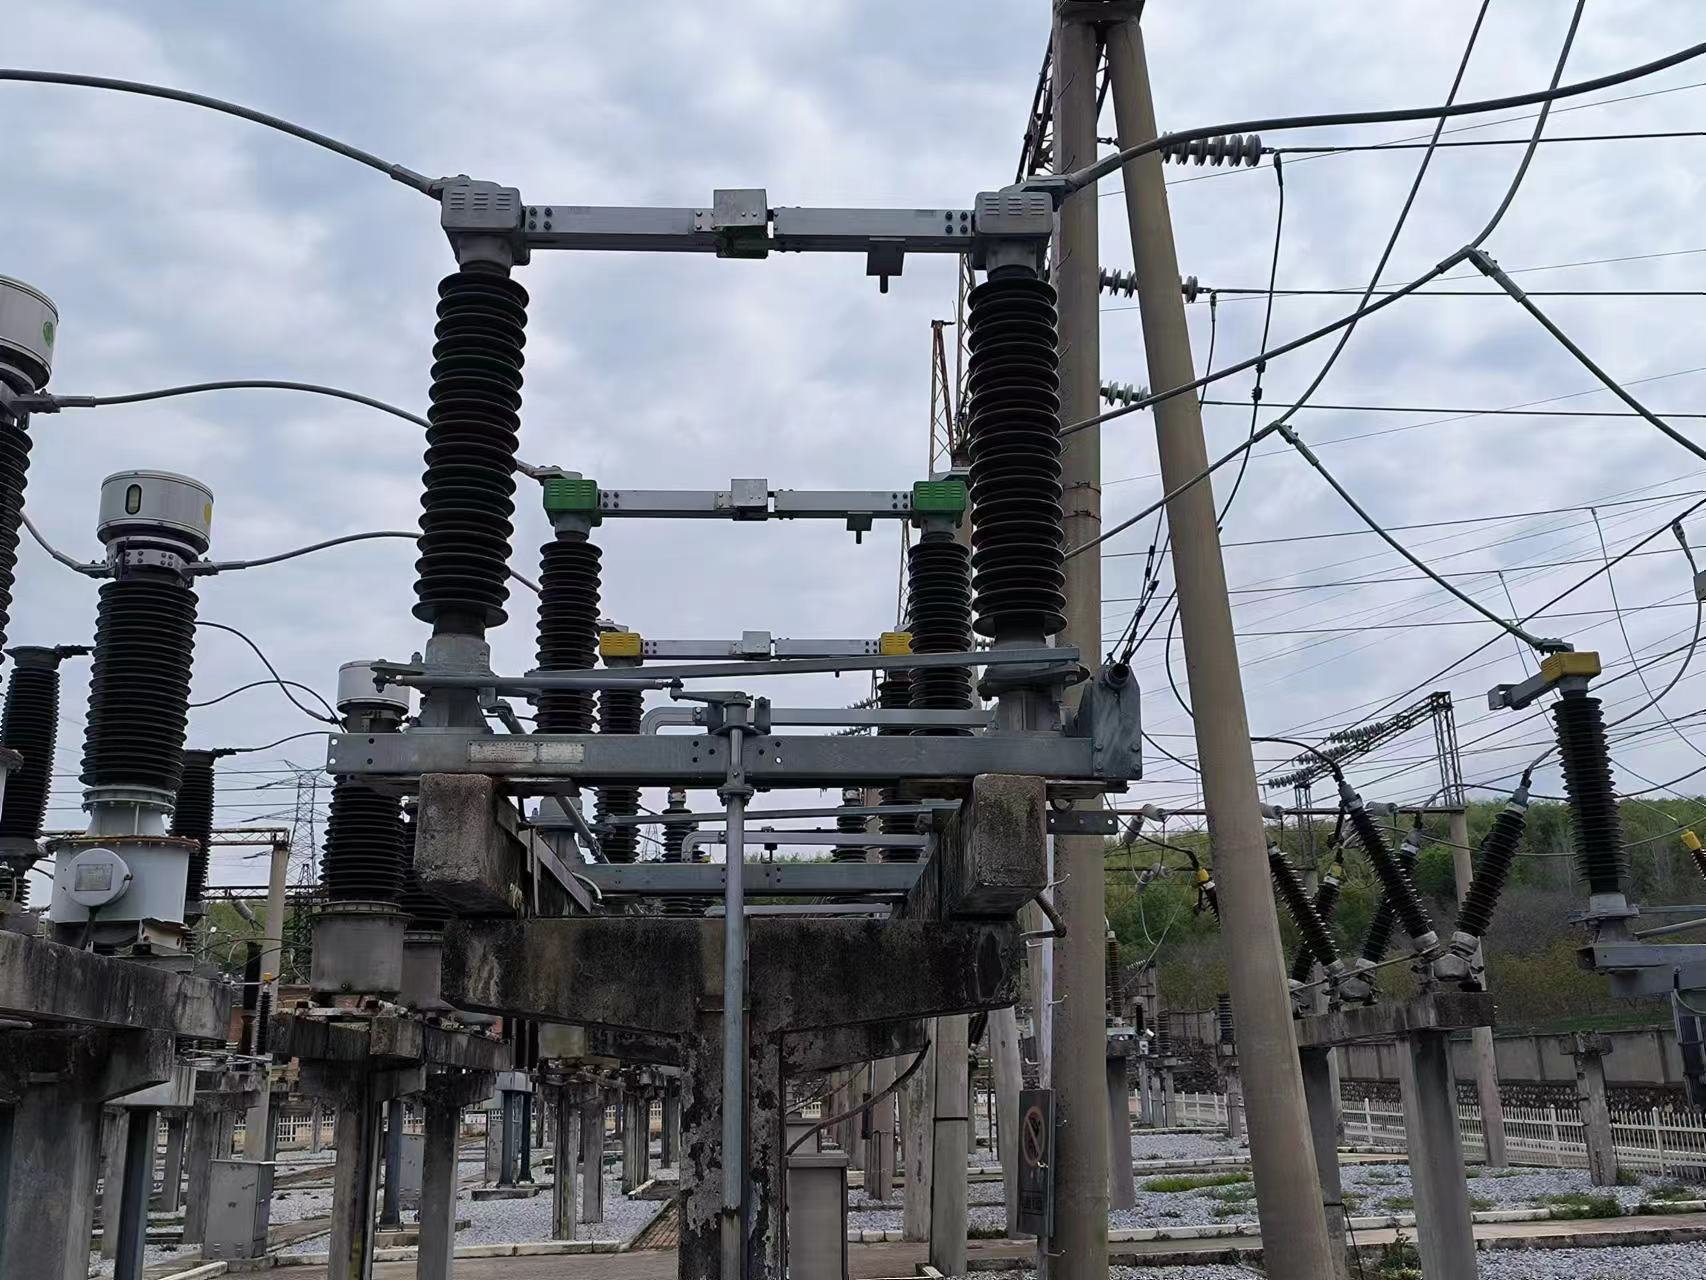Disconnecting link: (409, 155, 1109, 678)
